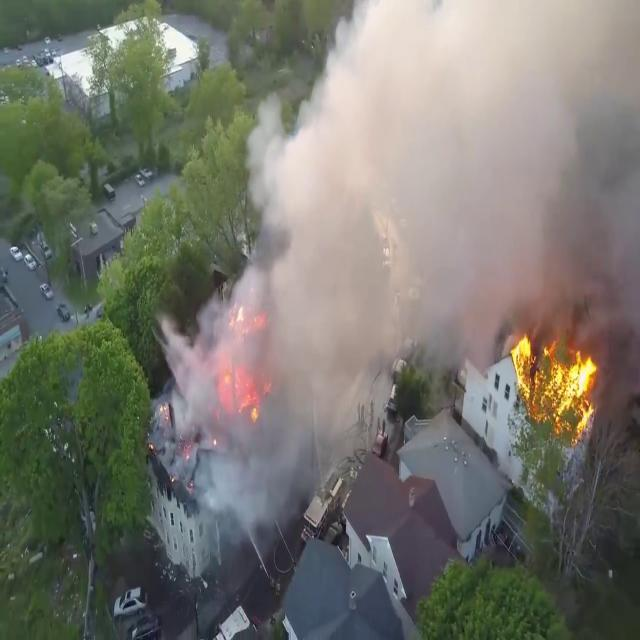Fire: (505, 319, 603, 435)
Smoke: (175, 0, 640, 510)
